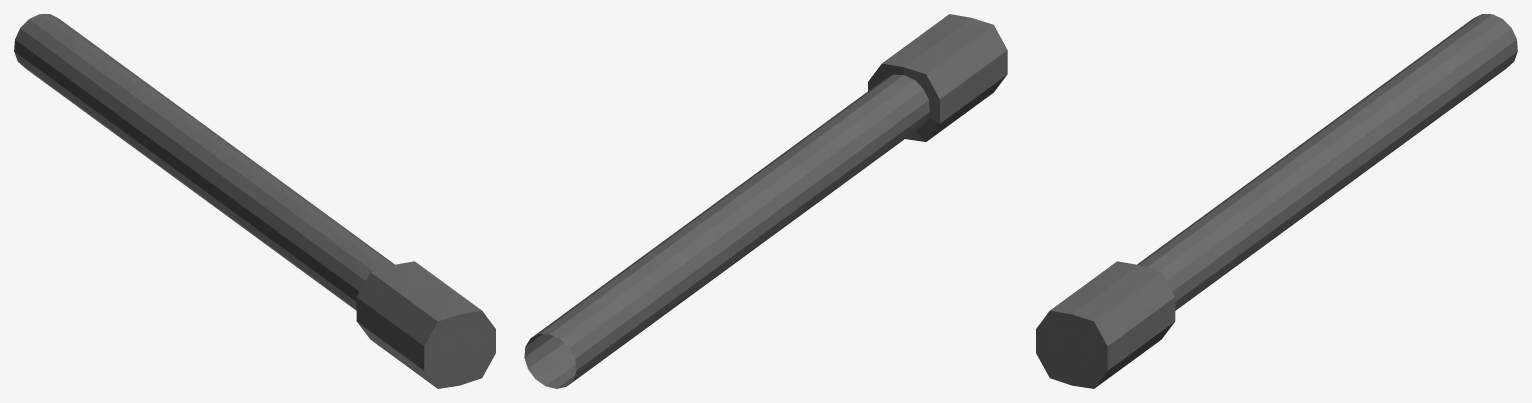
File: teava.obj
3 views of the same model, side by side, from view 1: azimuth 30°, elevation 25°; view 2: azimuth 150°, elevation 25°; view 3: azimuth 330°, elevation 25° (orthographic).
Parts seen in each view (by area): view 1: turela.002; view 2: turela.002; view 3: turela.002.
Part boxes in pixels (bbox=[...]): turela.002: bbox=[14, 14, 495, 388]; turela.002: bbox=[524, 14, 1007, 388]; turela.002: bbox=[1036, 14, 1517, 388].
Size of the model in its own units: 0.1833 by 0.1741 by 1.86.
1 material, 1 textured.
